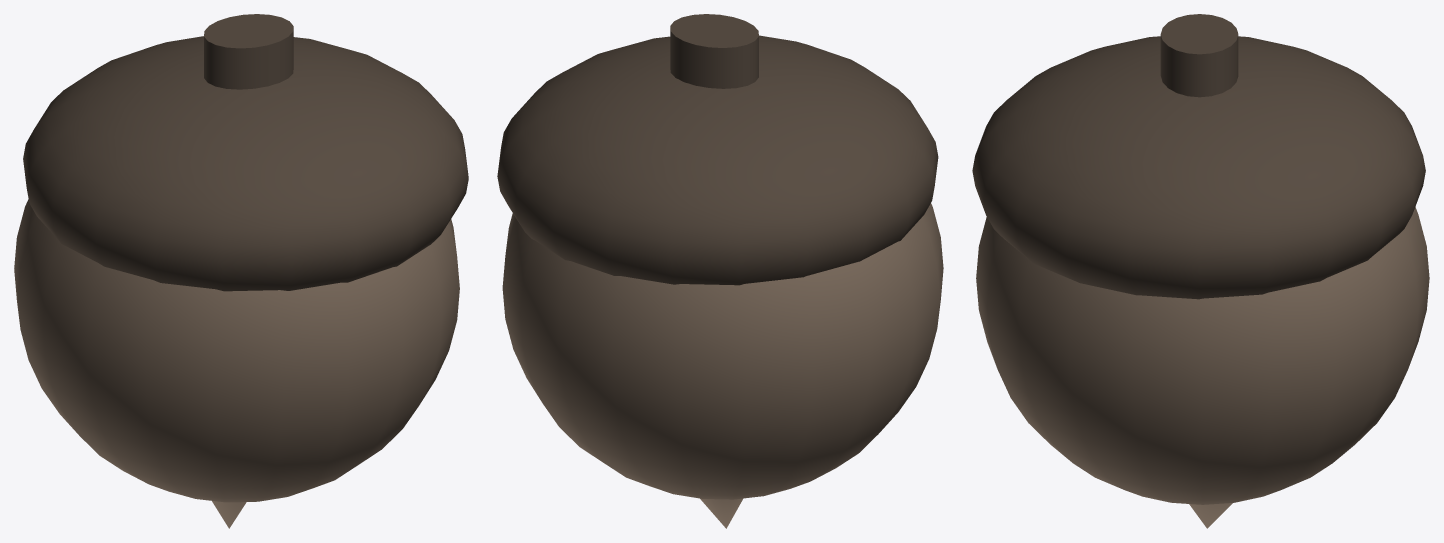
Rendered from Acorn.fbx.
The picture shows the model from 3 angles, left to right: view 1: azimuth 30°, elevation 25°; view 2: azimuth 150°, elevation 25°; view 3: azimuth 270°, elevation 25°; orthographic projection. The views are drawn at different scales.
Parts seen in each view (by area): view 1: Top, Acorn_Base, Stem; view 2: Top, Acorn_Base, Stem, Point; view 3: Top, Acorn_Base, Stem, Point.
Boxes of the visible parts, <box> form: Top: <box>23,36,468,291</box>; Acorn_Base: <box>14,199,459,502</box>; Stem: <box>204,14,293,89</box>; Top: <box>497,35,938,285</box>; Acorn_Base: <box>502,203,943,499</box>; Stem: <box>670,14,758,88</box>; Point: <box>700,498,743,528</box>; Top: <box>972,36,1425,299</box>; Acorn_Base: <box>976,207,1429,504</box>; Stem: <box>1160,14,1238,97</box>; Point: <box>1189,503,1232,528</box>.
Bounding box in the file's own units: 2.04 × 2.45 × 2.02.
